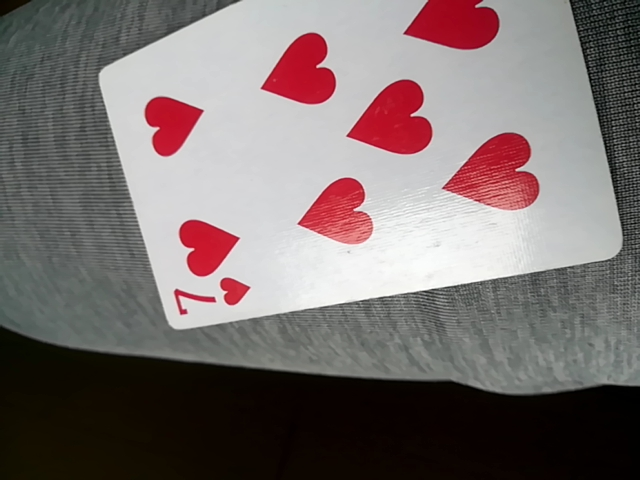hx 7: (102, 0, 623, 333)
